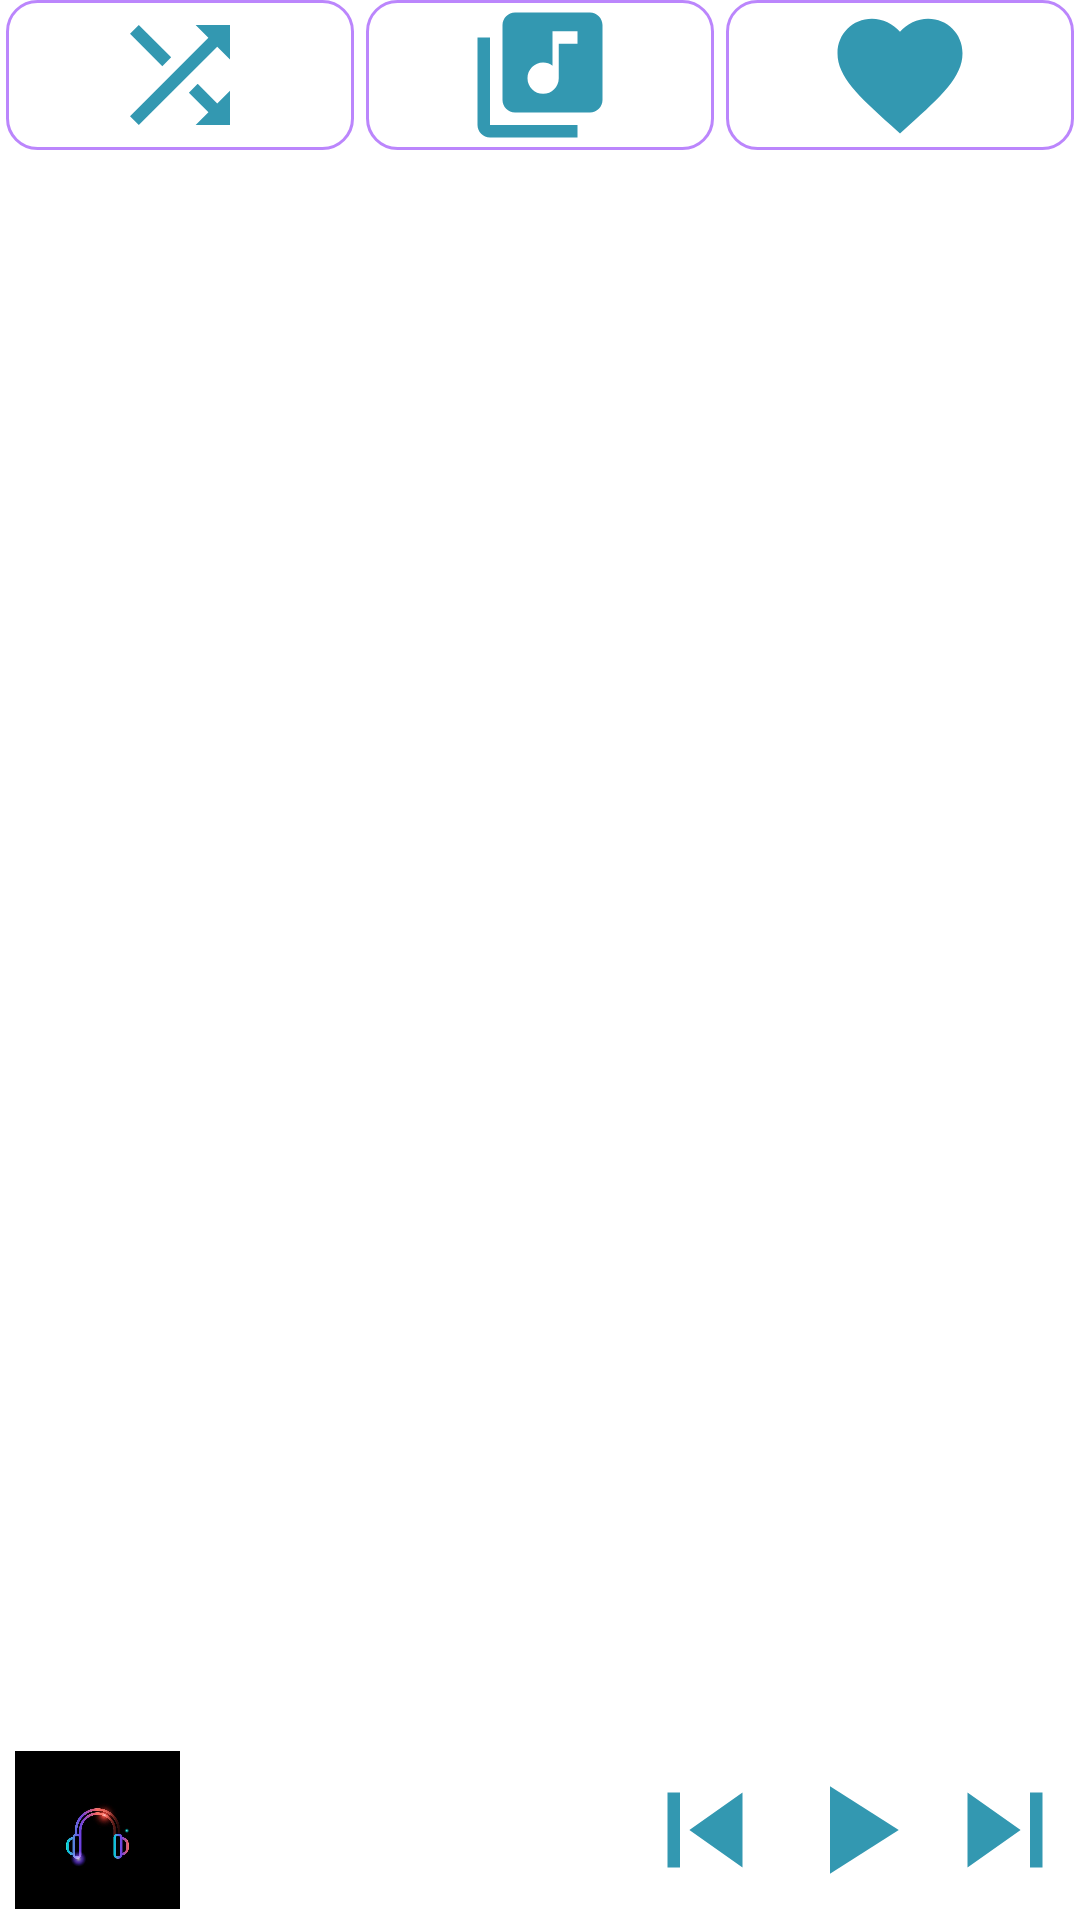

Icons on this 1080 × 1920 Android screen, each with its box as BBox(x1, y1, x2, y2):
Favourite Songs: BBox(726, 0, 1074, 150)
music: BBox(15, 1751, 180, 1909)
Music playlists: BBox(366, 0, 714, 150)
Next Music: BBox(967, 1792, 1043, 1868)
play: BBox(830, 1786, 899, 1874)
previous: BBox(667, 1792, 743, 1868)
Shuffle Music: BBox(6, 0, 354, 150)
